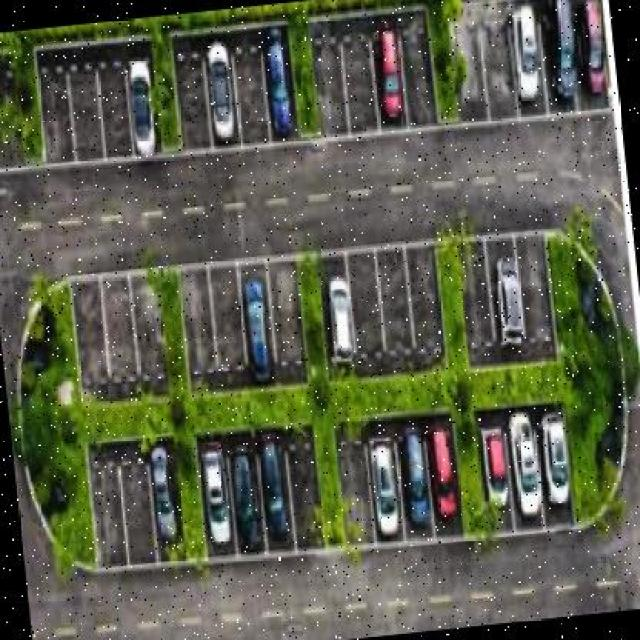Car: (540, 404, 577, 520), (507, 14, 546, 114), (317, 277, 354, 371), (489, 250, 523, 346), (229, 441, 260, 543), (473, 426, 509, 512), (372, 432, 401, 538), (266, 36, 298, 129), (512, 406, 541, 507), (124, 69, 160, 146), (201, 454, 230, 543), (375, 33, 404, 118), (261, 438, 287, 532), (210, 56, 238, 141), (547, 6, 575, 87), (244, 280, 269, 367), (580, 12, 607, 89), (435, 427, 458, 515), (404, 446, 432, 515)
Empty: (72, 297, 112, 388), (452, 26, 489, 98), (519, 258, 552, 336), (353, 256, 381, 341), (466, 266, 495, 347), (235, 69, 266, 141), (487, 21, 515, 98), (295, 437, 319, 526), (343, 439, 367, 521), (141, 298, 167, 370), (381, 272, 409, 338), (217, 284, 240, 363), (404, 35, 432, 99), (410, 267, 435, 338), (346, 50, 373, 115), (279, 283, 301, 361), (101, 477, 124, 551), (187, 290, 212, 358), (107, 300, 132, 367), (316, 54, 341, 114), (49, 89, 73, 147), (106, 77, 127, 143), (127, 472, 149, 533), (181, 72, 206, 123), (74, 89, 97, 140)
